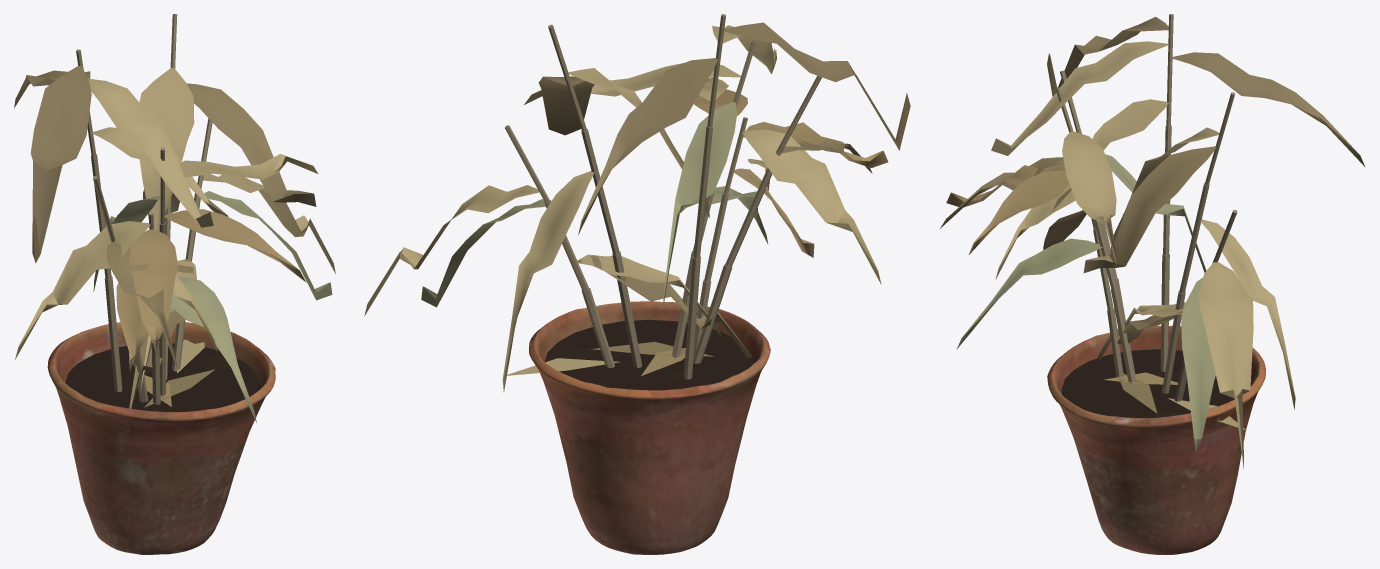
Rendered from dead-plant.glb.
3 renders of one model, left to right at view 1: azimuth 30°, elevation 25°; view 2: azimuth 150°, elevation 25°; view 3: azimuth 270°, elevation 25°, orthographic. The views are drawn at different scales.
Parts seen in each view (by area): view 1: dead_plant; view 2: dead_plant; view 3: dead_plant.
Boxes of the visible parts, <box> form: dead_plant: <box>14,14,335,554</box>; dead_plant: <box>364,14,910,554</box>; dead_plant: <box>940,14,1365,554</box>.
Bounding box in the file's own units: 0.3918 × 0.4599 × 0.3667.
7 materials, 2 textured.
